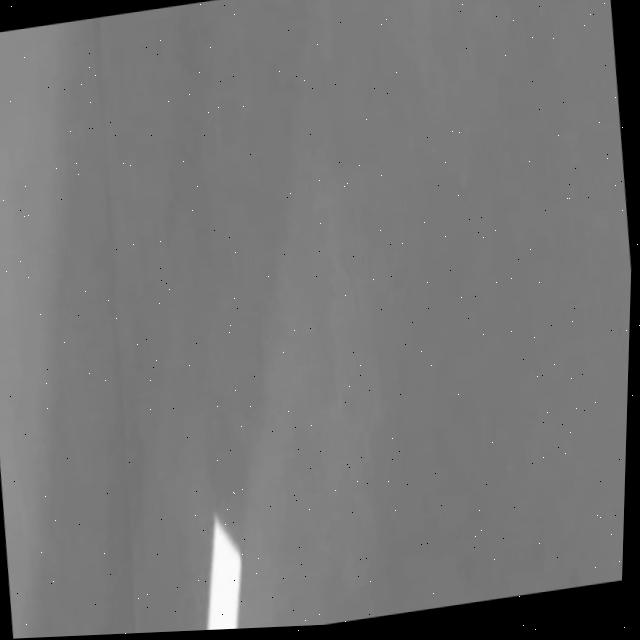center: (207, 516, 242, 630)
